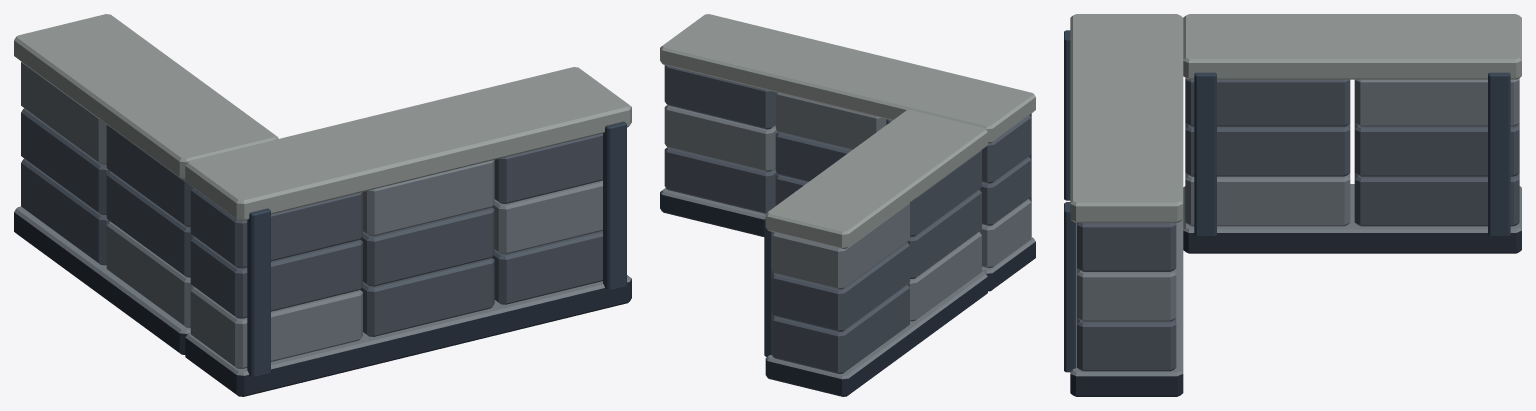
File: wall-corner.glb
3 renders of one model, left to right at view 1: azimuth 30°, elevation 25°; view 2: azimuth 150°, elevation 25°; view 3: azimuth 270°, elevation 25°, orthographic. The views are drawn at different scales.
Parts seen in each view (by area): view 1: wall-corner__body; view 2: wall-corner__body; view 3: wall-corner__body.
Boxes of the visible parts, <box> form: wall-corner__body: <box>14,14,631,396</box>; wall-corner__body: <box>660,14,1035,396</box>; wall-corner__body: <box>1064,14,1521,396</box>.
Bounding box in the file's own units: 2 × 0.95 × 2.03.
